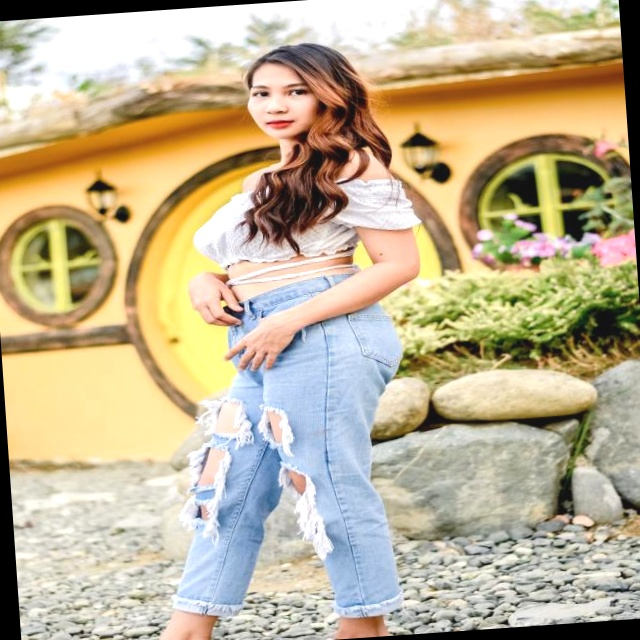Crop_Top: (189, 185, 369, 306)
Sleeveless: (332, 147, 392, 182)
low_neckline: (188, 150, 361, 267)
ripped_pants: (163, 275, 428, 624)
